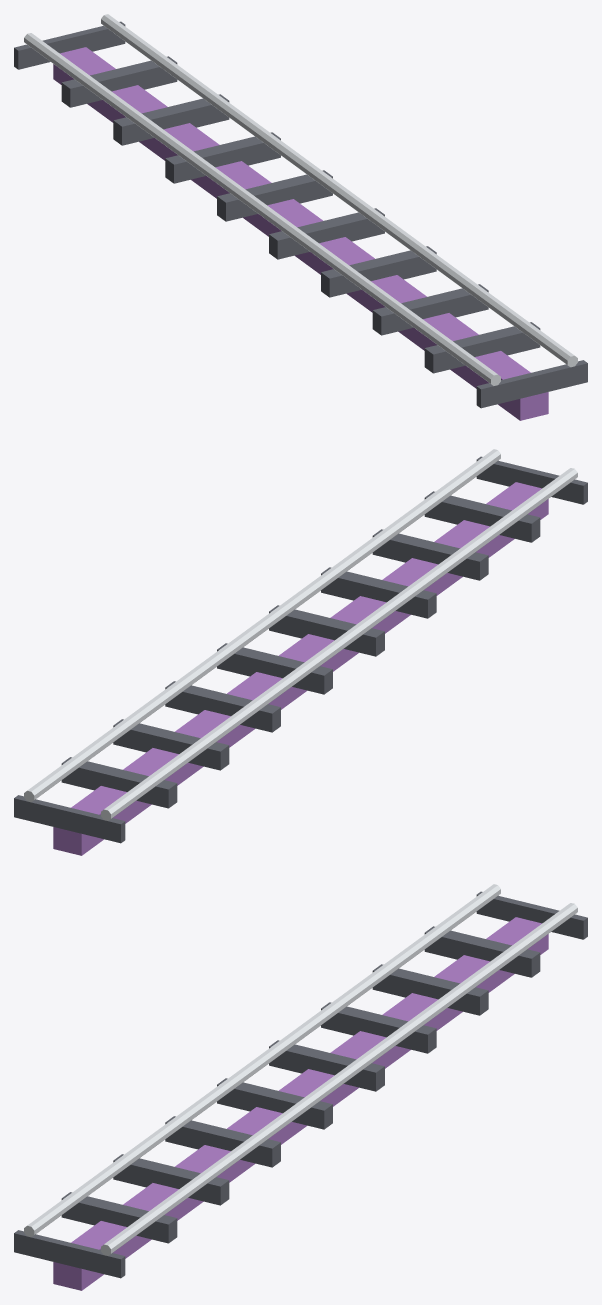
Rendered from theme-park-rides-and-coasters-theme-park-rides-and-coa-aecc6c73__28619.glb.
The picture shows the model from 3 angles, top to bottom: view 1: azimuth 30°, elevation 25°; view 2: azimuth 150°, elevation 25°; view 3: azimuth 330°, elevation 25°; orthographic projection.
Parts seen in each view (by area): view 1: theme-park-rides-and-coasters-track-straight-8m; view 2: theme-park-rides-and-coasters-track-straight-8m; view 3: theme-park-rides-and-coasters-track-straight-8m.
Part boxes in pixels (<box>): theme-park-rides-and-coasters-track-straight-8m: <box>14,14,587,420</box>; theme-park-rides-and-coasters-track-straight-8m: <box>14,449,587,855</box>; theme-park-rides-and-coasters-track-straight-8m: <box>14,884,587,1290</box>.
Size of the model in its own units: 1.06 by 0.4906 by 8.
